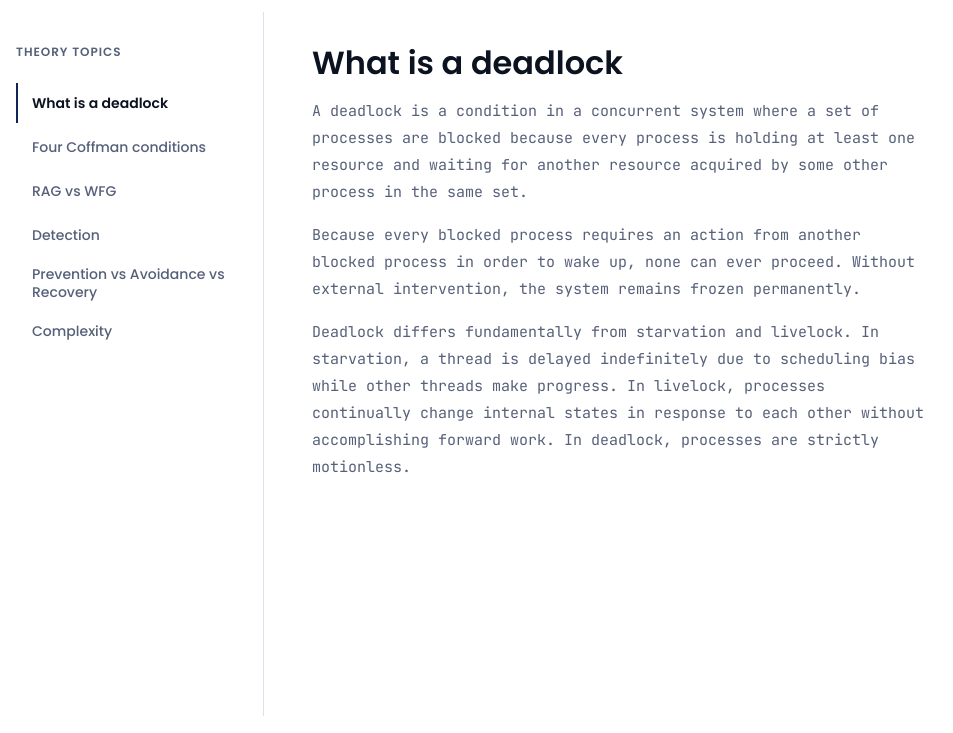
Scenario: Learn page › says which conditions hold right now for the current scenario
Click the tab "Four Coffman conditions" at (128, 147), box 16,127 -> 239,167
(page scrolled)
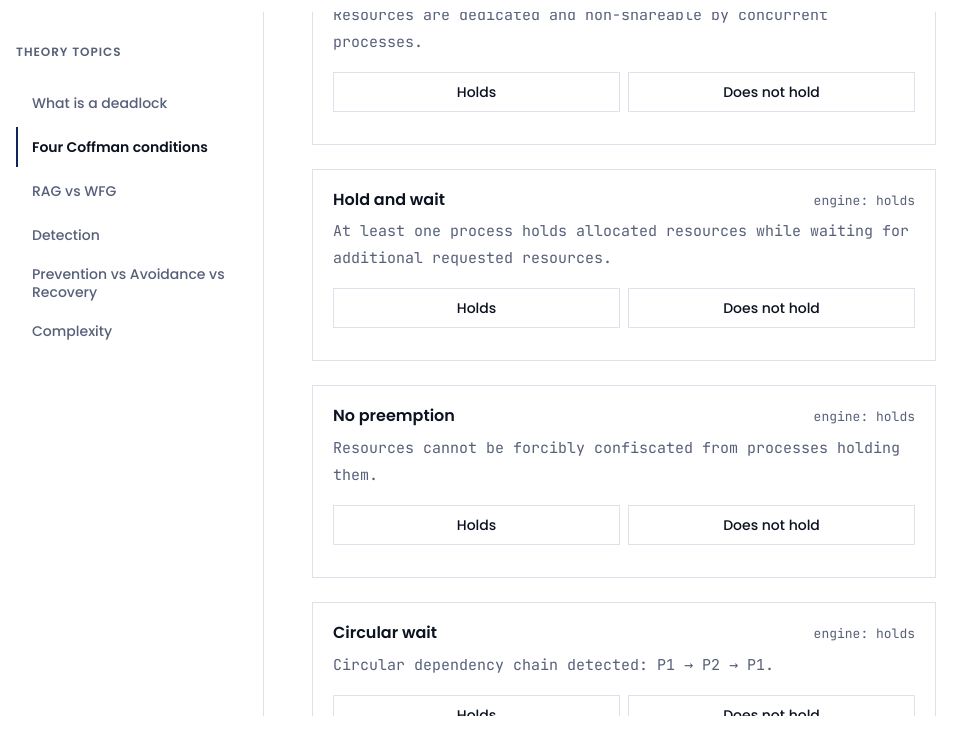
Expected: the element with test id "coffman-checklist" shows "engine: holds"
